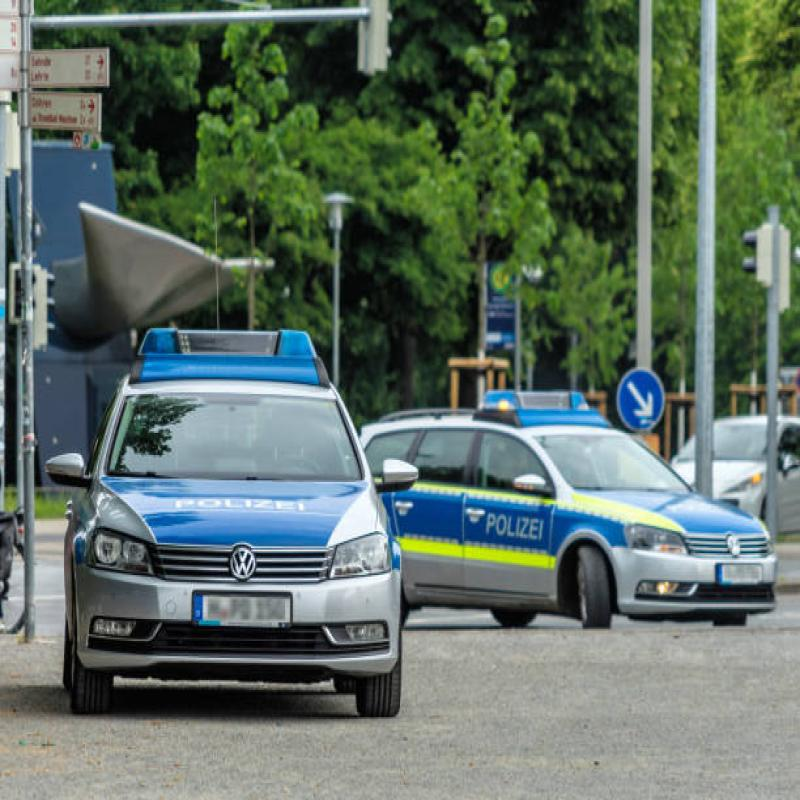AmbulanceSiren: (127, 312, 328, 401), (464, 372, 589, 424)
